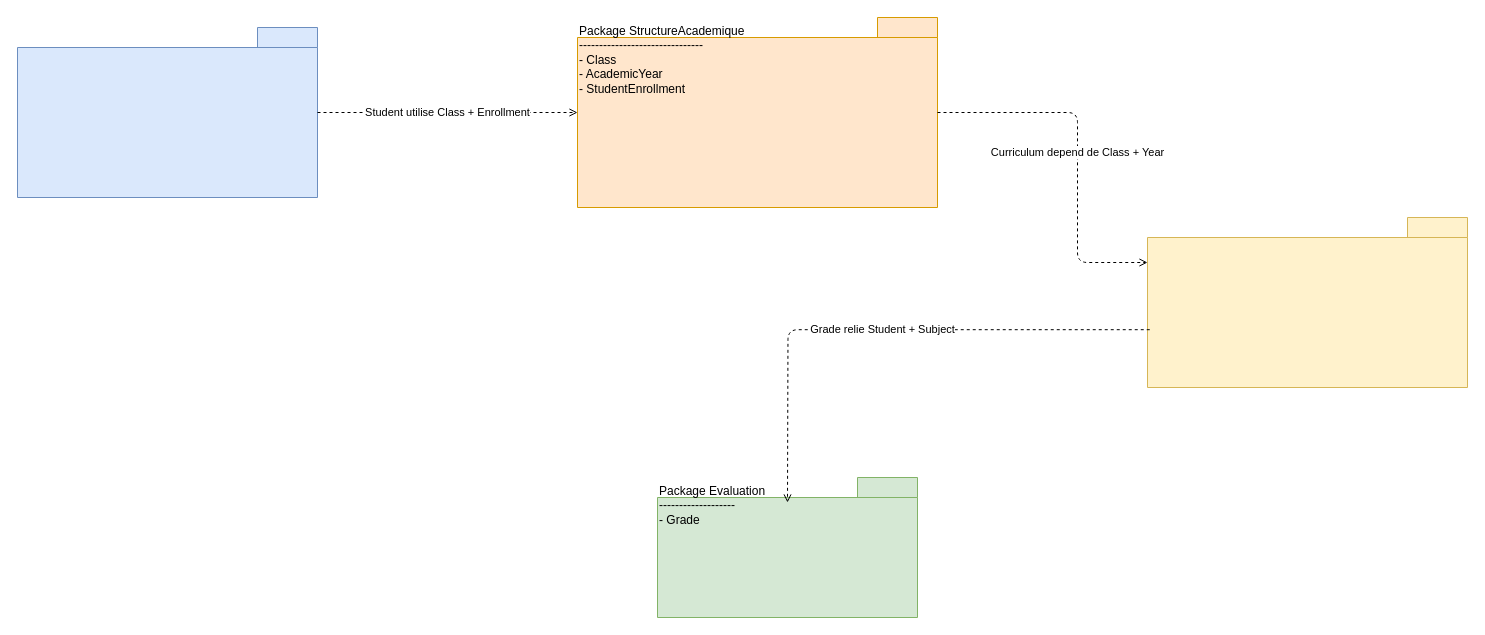
Image size: 1485x635. Some labels were removed from this diagram. Here are the shapes that lost their labels. From the top down, the box of each, then its label:
(16, 26, 318, 198): Package Utilisateurs ----------------------- - User - Teacher - Student
(1146, 216, 1468, 388): Package Pedagogie ------------------- - Subject - ClassSubjectCurriculum
